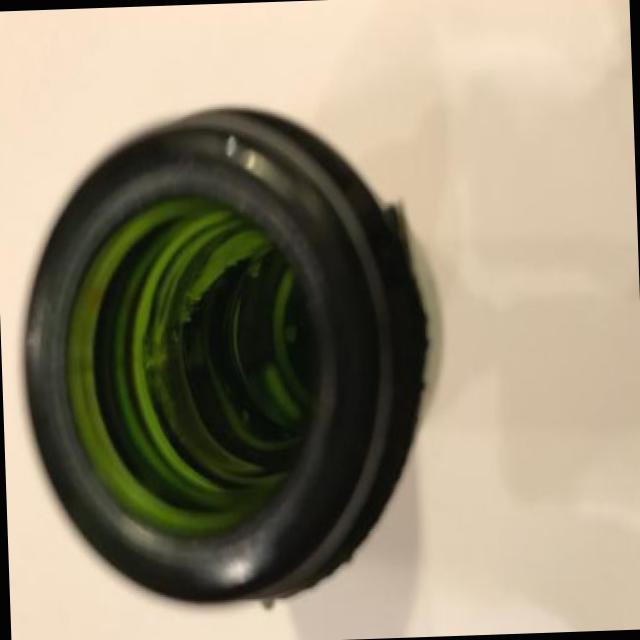chai_thuy_tinh: (21, 105, 435, 608)
